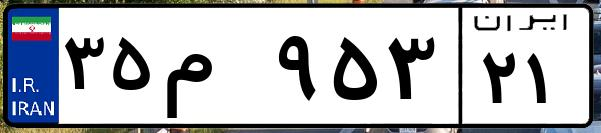1: (525, 38, 570, 115)
2: (475, 38, 525, 113)
3: (385, 28, 445, 110), (57, 26, 110, 100)
5: (330, 28, 385, 110), (110, 28, 158, 98)
9: (270, 28, 330, 110)
م: (158, 20, 270, 120)
